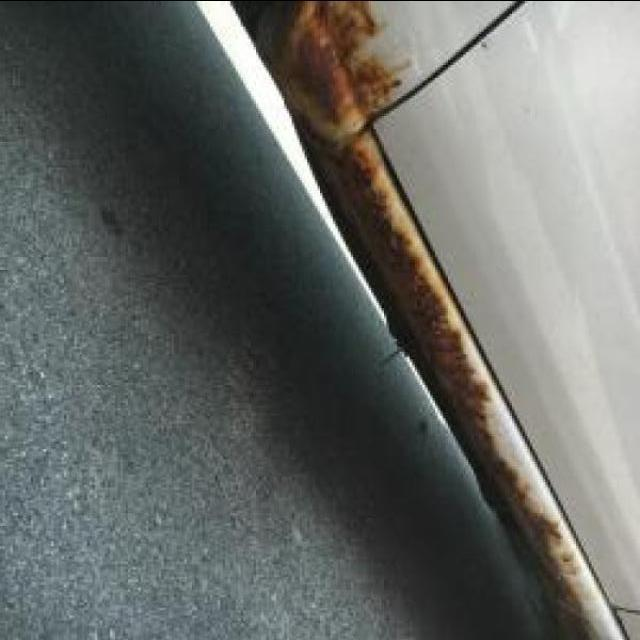Crack: (348, 0, 524, 139)
